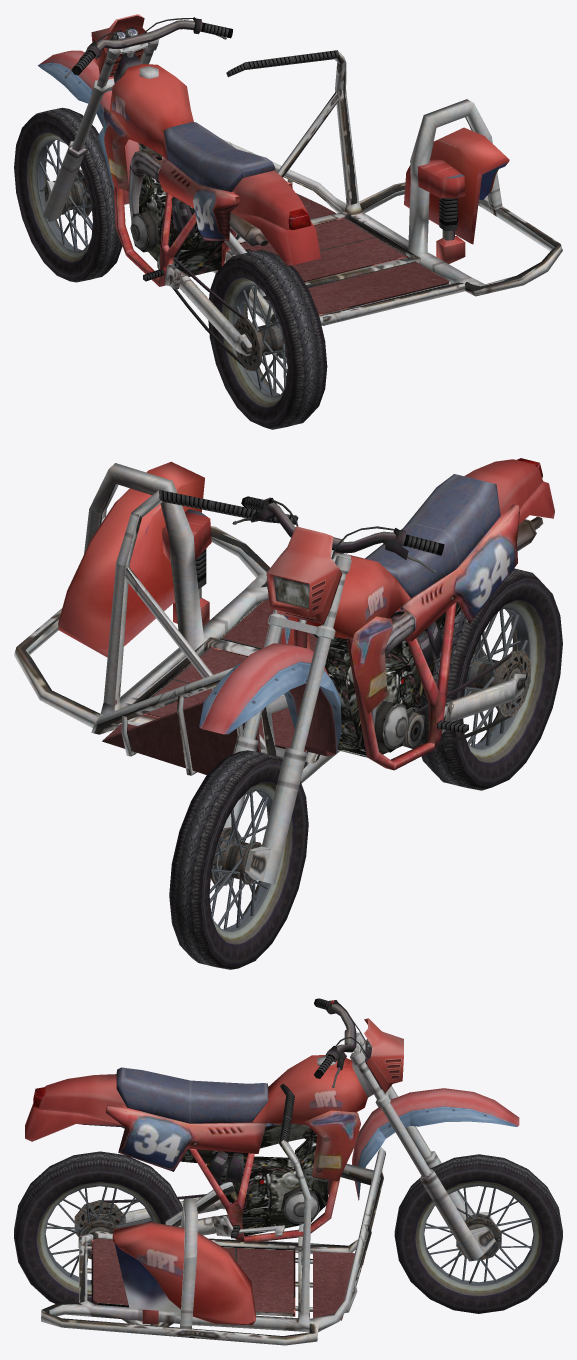
File: Model_Bikes_CrossBike_Sidecar.fbx
The picture shows the model from 3 angles, top to bottom: view 1: azimuth 30°, elevation 25°; view 2: azimuth 150°, elevation 25°; view 3: azimuth 270°, elevation 25°; orthographic projection. The views are drawn at different scales.
Visible parts, largest first — view 1: CrossBike_SideSpan; view 2: CrossBike_SideSpan; view 3: CrossBike_SideSpan.
Part boxes in pixels (box(x1,y1,x2,y2)): CrossBike_SideSpan: box(14, 14, 562, 429); CrossBike_SideSpan: box(14, 458, 562, 969); CrossBike_SideSpan: box(14, 998, 562, 1345).
Bounding box in the file's own units: 173 × 139 × 238.
